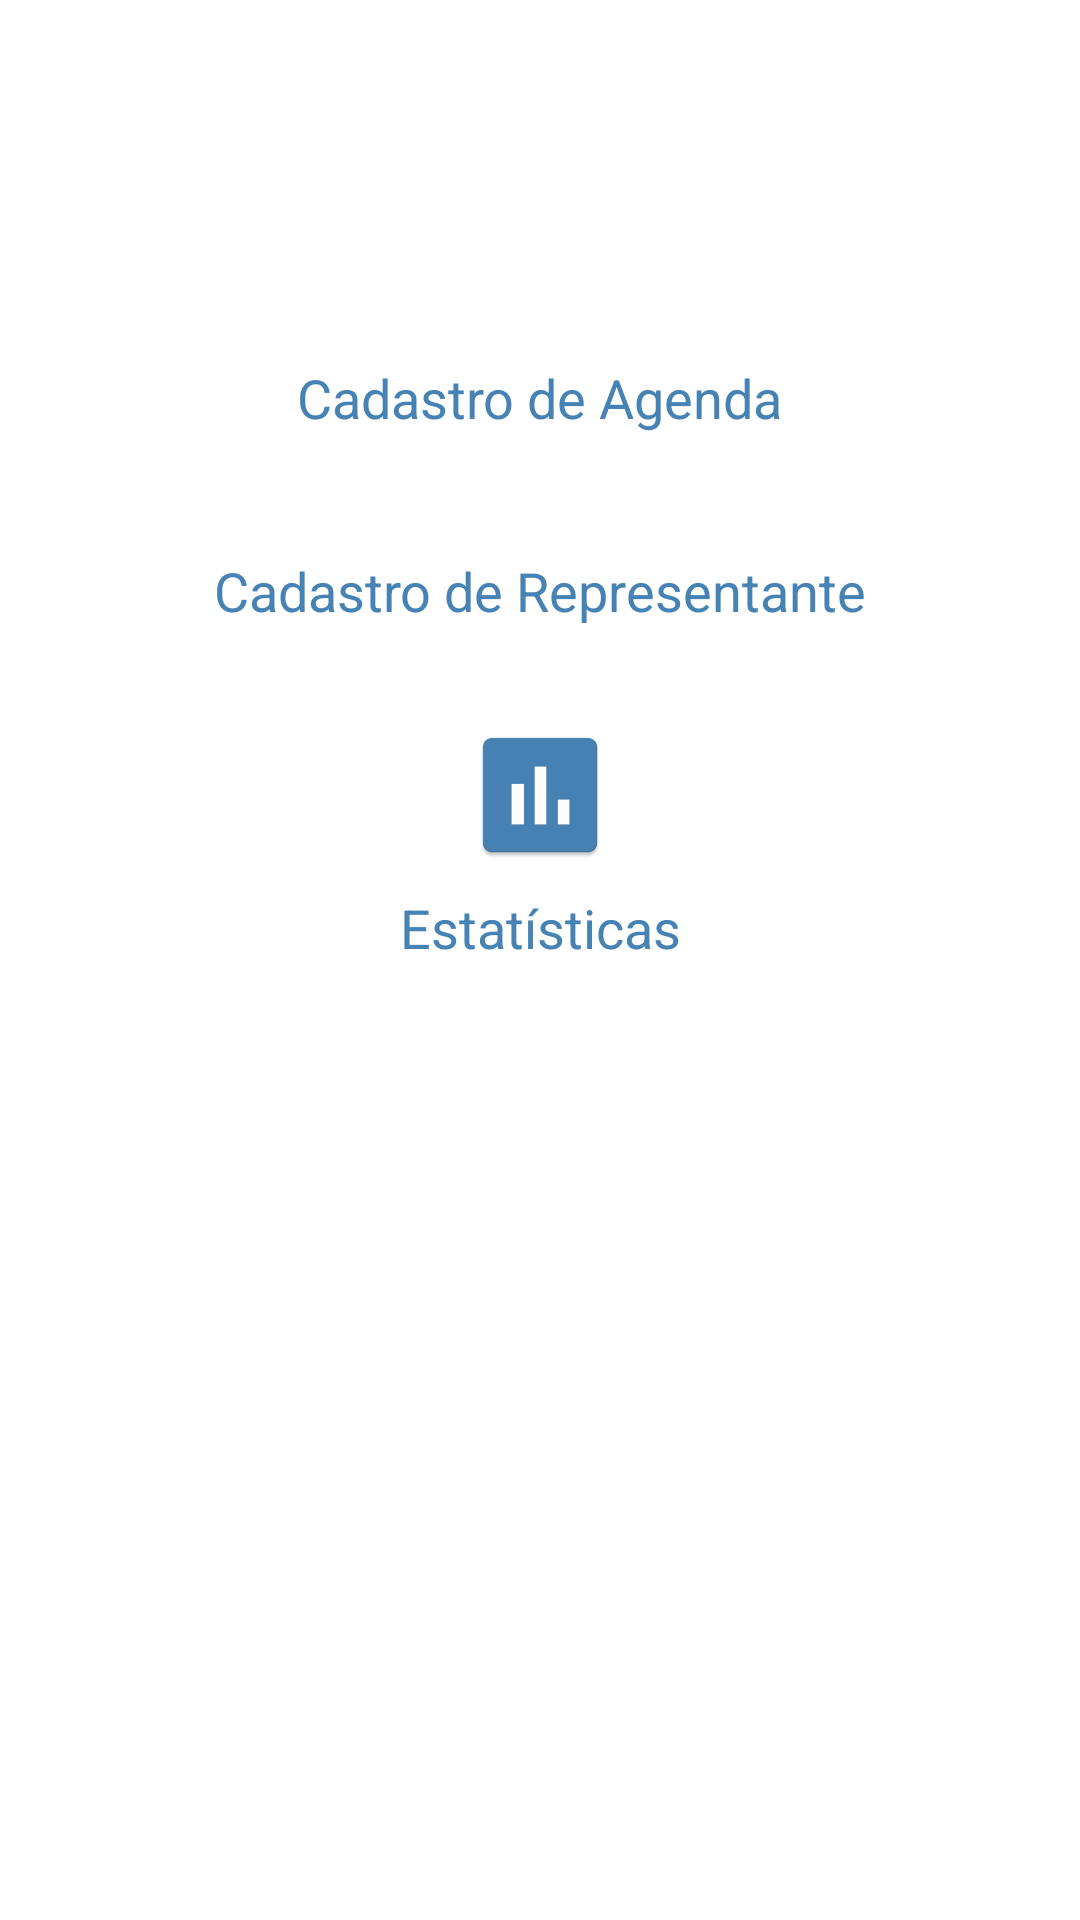

Named icons in this screenshot (1080*1920) and their bounding boxes, (x1, y1, x2, y2):
grafico barras: (482, 738, 598, 856)
